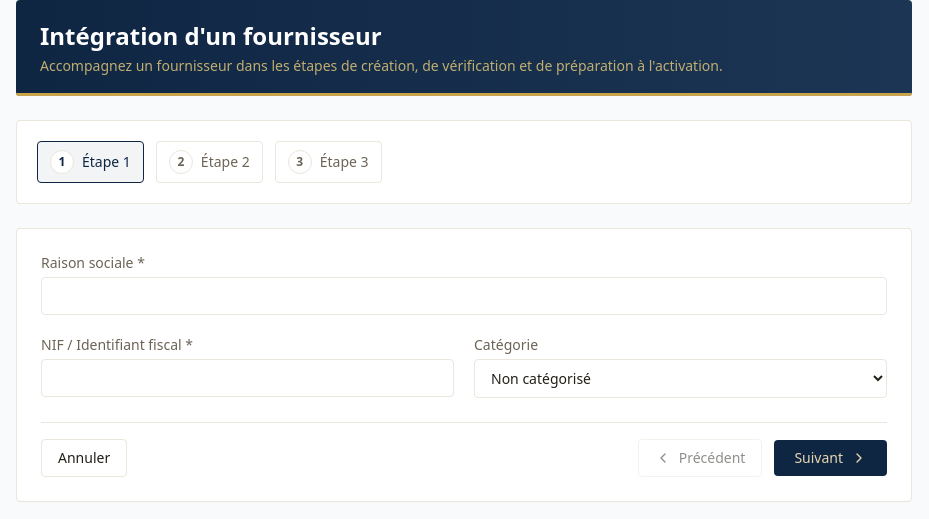
Test: SupplierOnboardingPage › allows returning to the previous onboarding step
Check: the element with test id "supplier-onboarding-step-1" is shown, box [41,253,887,398]
Type "Acme" into the field labelled "Raison sociale *" at (464, 296), box [41,277,887,315]
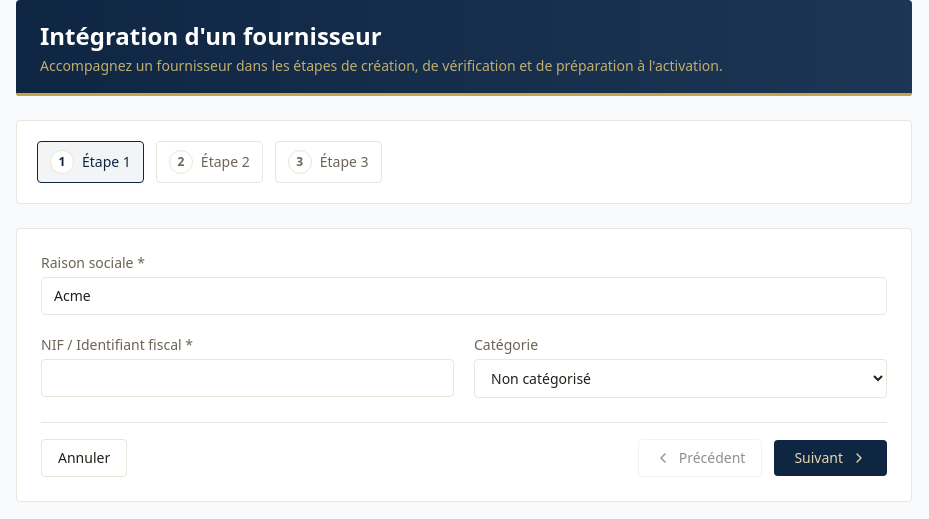
Type "TAX-001" into the field labelled "NIF / Identifiant fiscal *" at (248, 378), box [41,359,454,397]
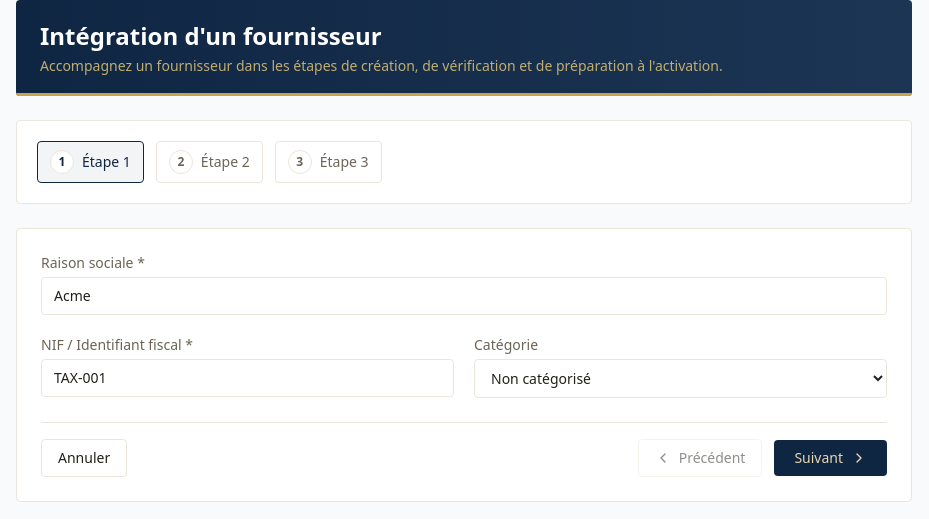
Click the button "Suivant" at (831, 458), box [774,440,887,476]
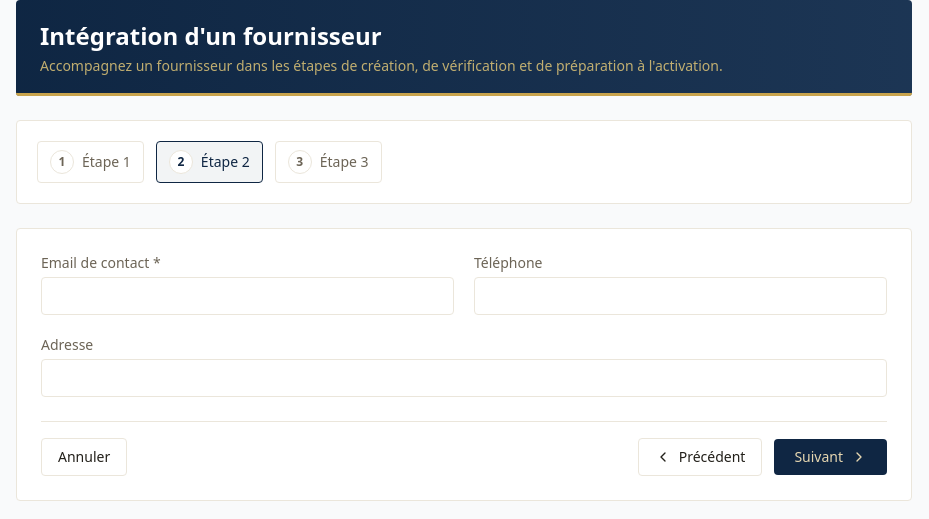
Check: the element with test id "supplier-onboarding-step-2" is shown, box [41,253,887,397]
Click the button "Précédent" at (700, 457), box [638,438,762,476]
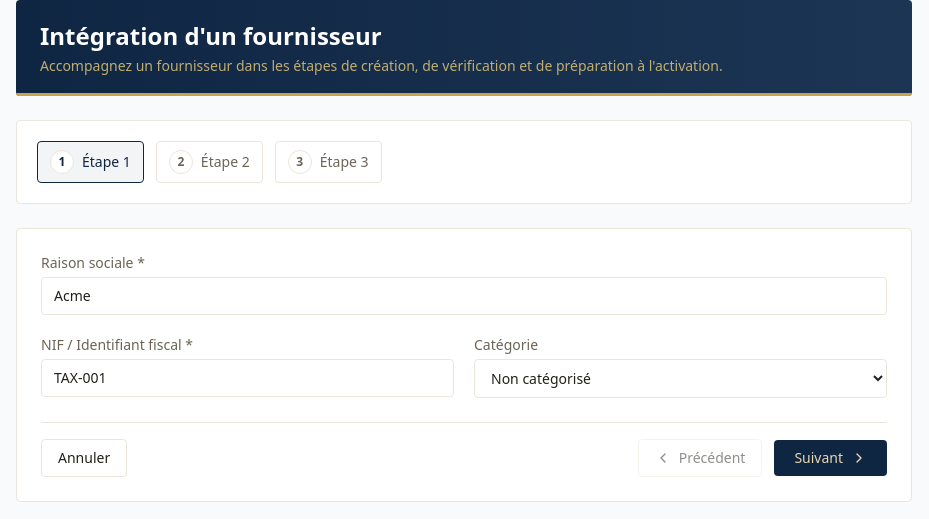
Check: the element with test id "supplier-onboarding-step-1" is shown, box [41,253,887,398]
